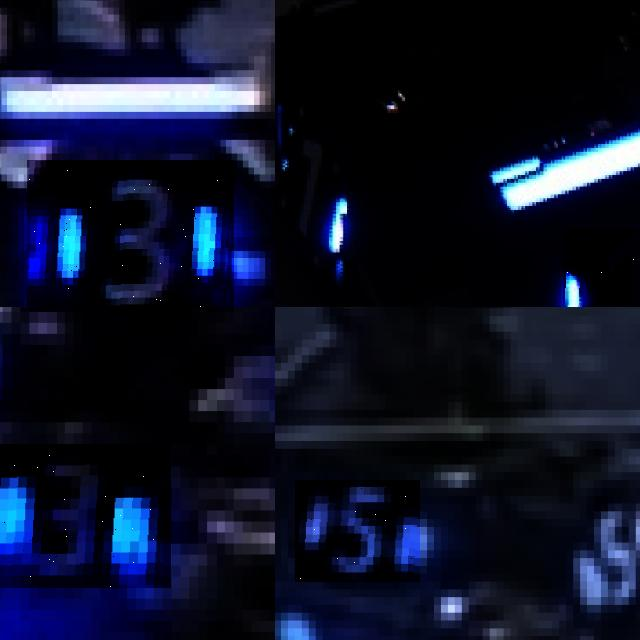B1: (563, 229, 640, 307)
B3: (26, 160, 234, 307), (0, 444, 171, 587)
B5: (295, 480, 420, 582), (573, 488, 640, 613)
